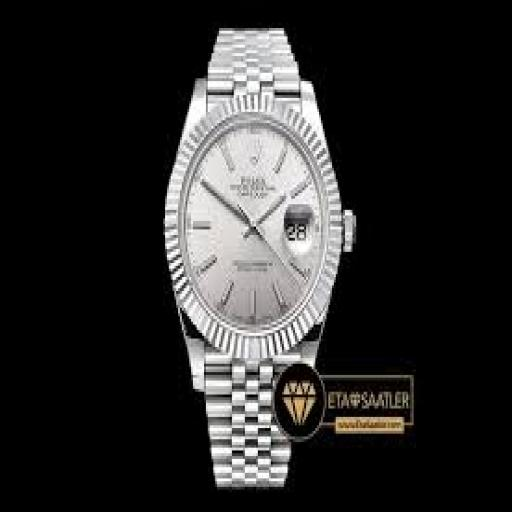KolSaati: (152, 9, 362, 508)
